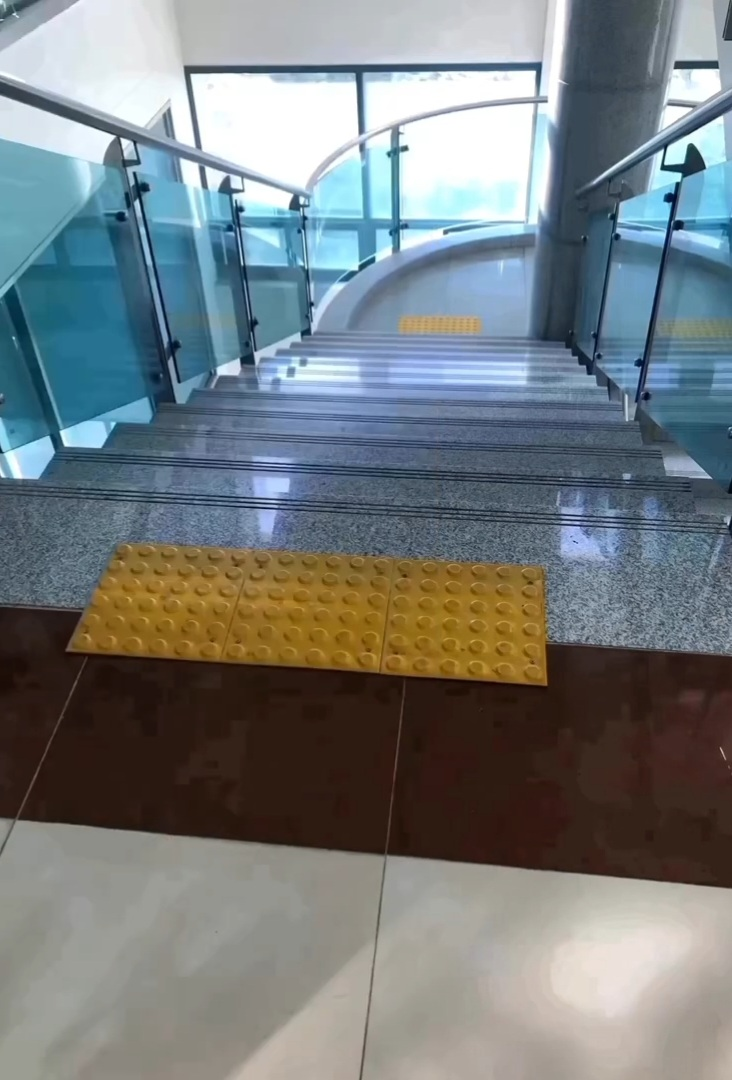warningBlock: (395, 567, 538, 686), (242, 550, 379, 657), (113, 548, 227, 644)
